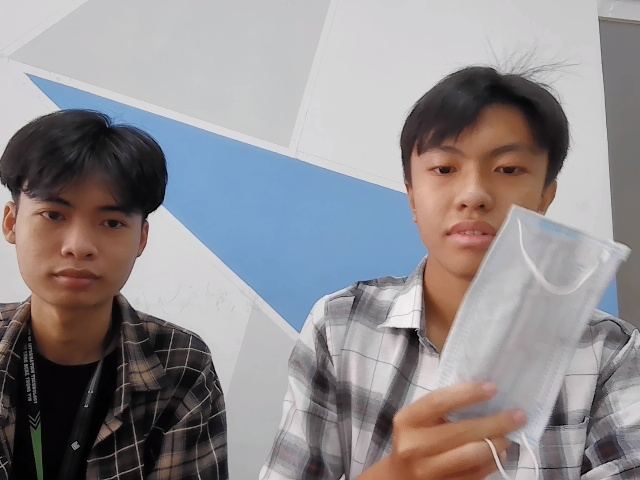human: (391, 54, 594, 276), (2, 106, 181, 315)
mask: (438, 204, 611, 450)
